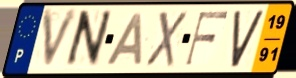A: (104, 12, 144, 68)
F: (183, 10, 231, 68)
N: (61, 8, 115, 71)
V: (40, 7, 82, 73), (230, 8, 267, 69)
X: (143, 10, 189, 69)
